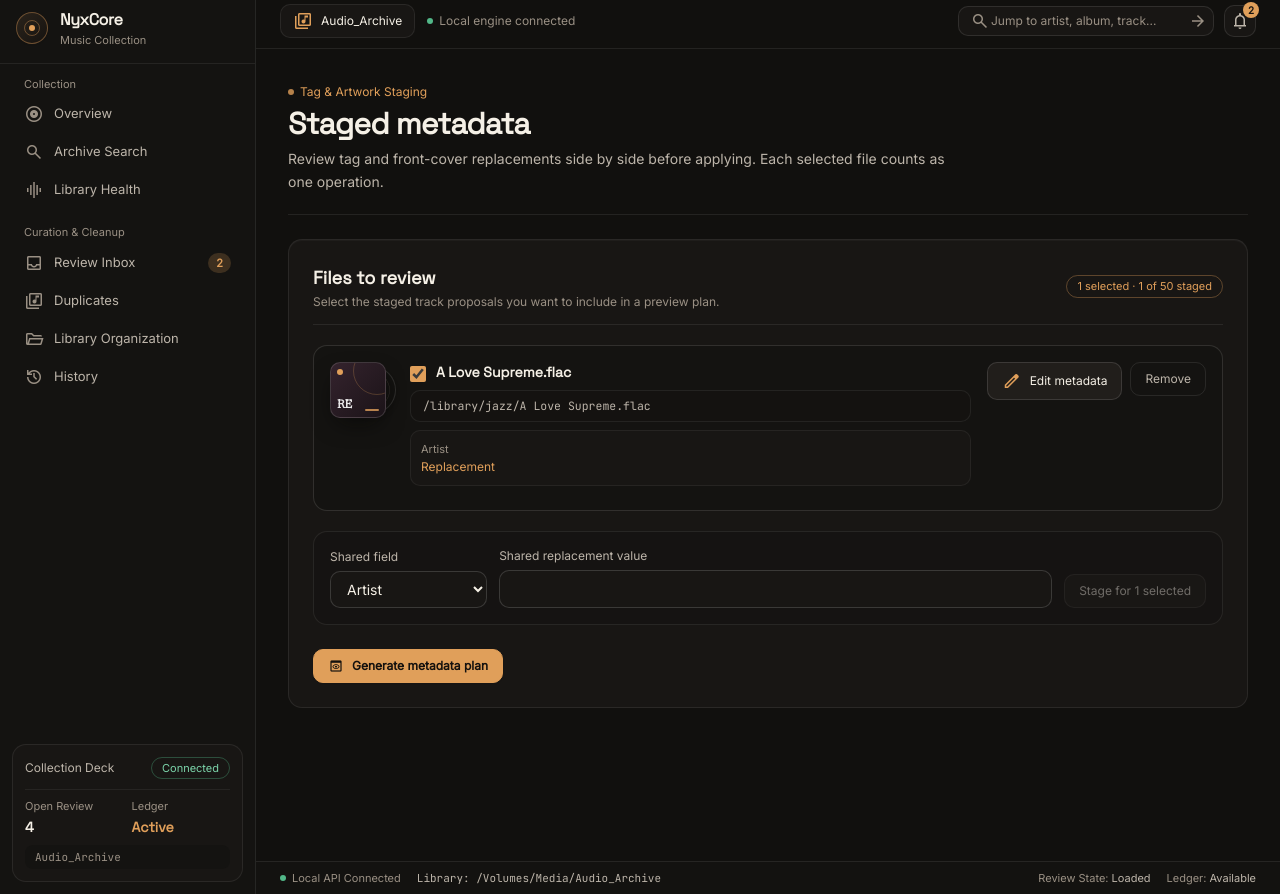
it: metadata repair › reports a file failure and keeps its draft
Click the button "Generate metadata plan".
click(408, 666)  # box top-left (313, 649), bottom-right (503, 683)
(page scrolled)
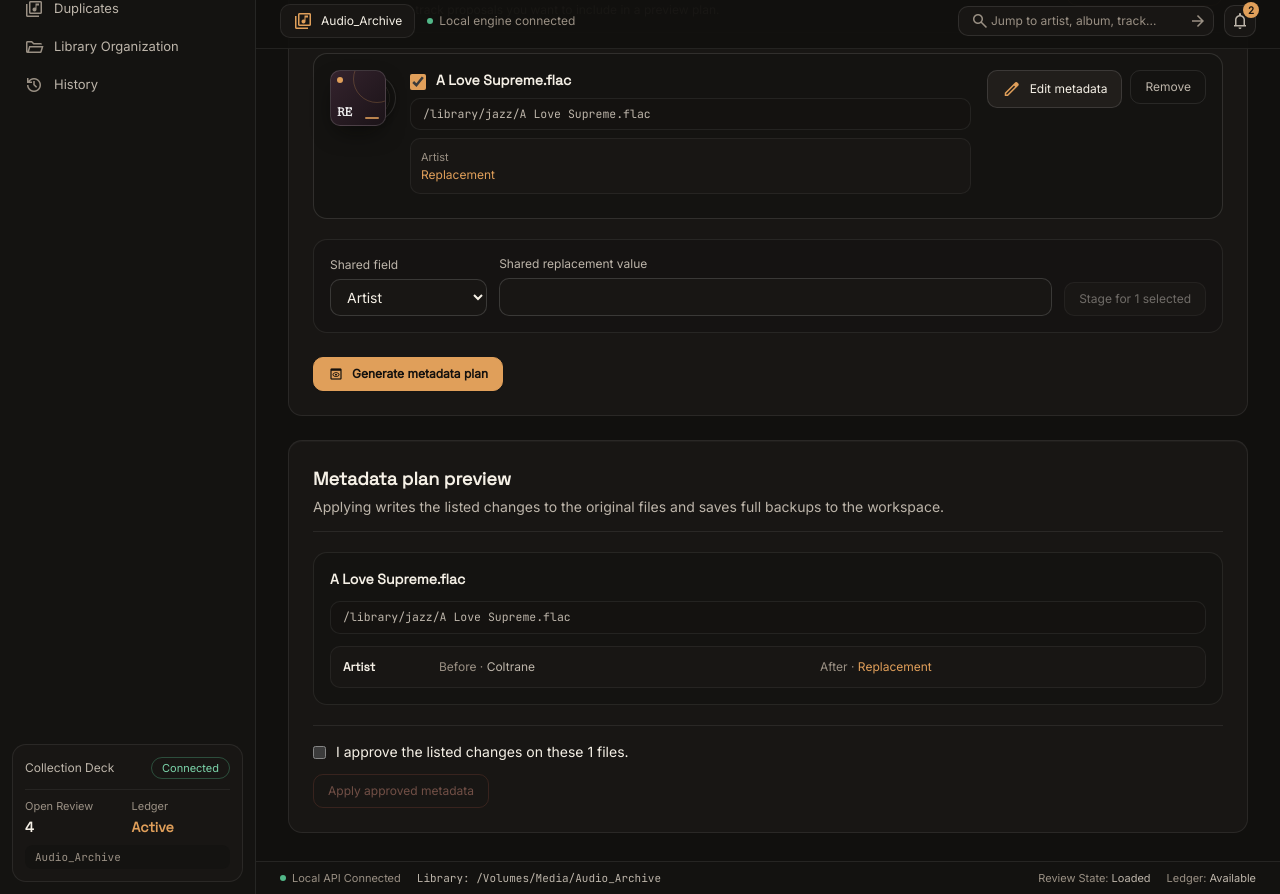
Click the checkbox labelled "I approve the listed changes on these 1 files.".
click(320, 752)  # box top-left (313, 746), bottom-right (326, 759)
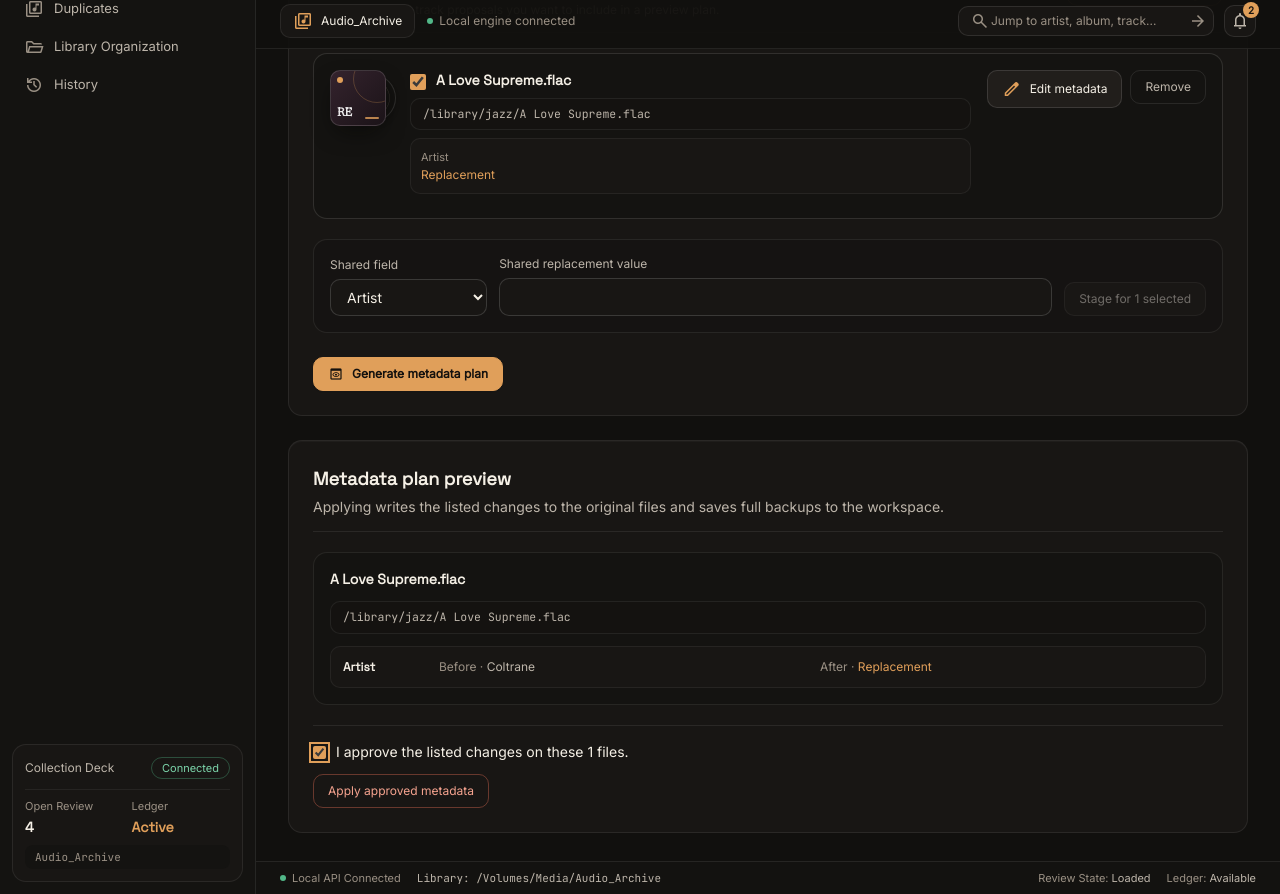
Click the button "Apply approved metadata".
click(401, 791)  # box top-left (313, 774), bottom-right (489, 808)
(page scrolled)
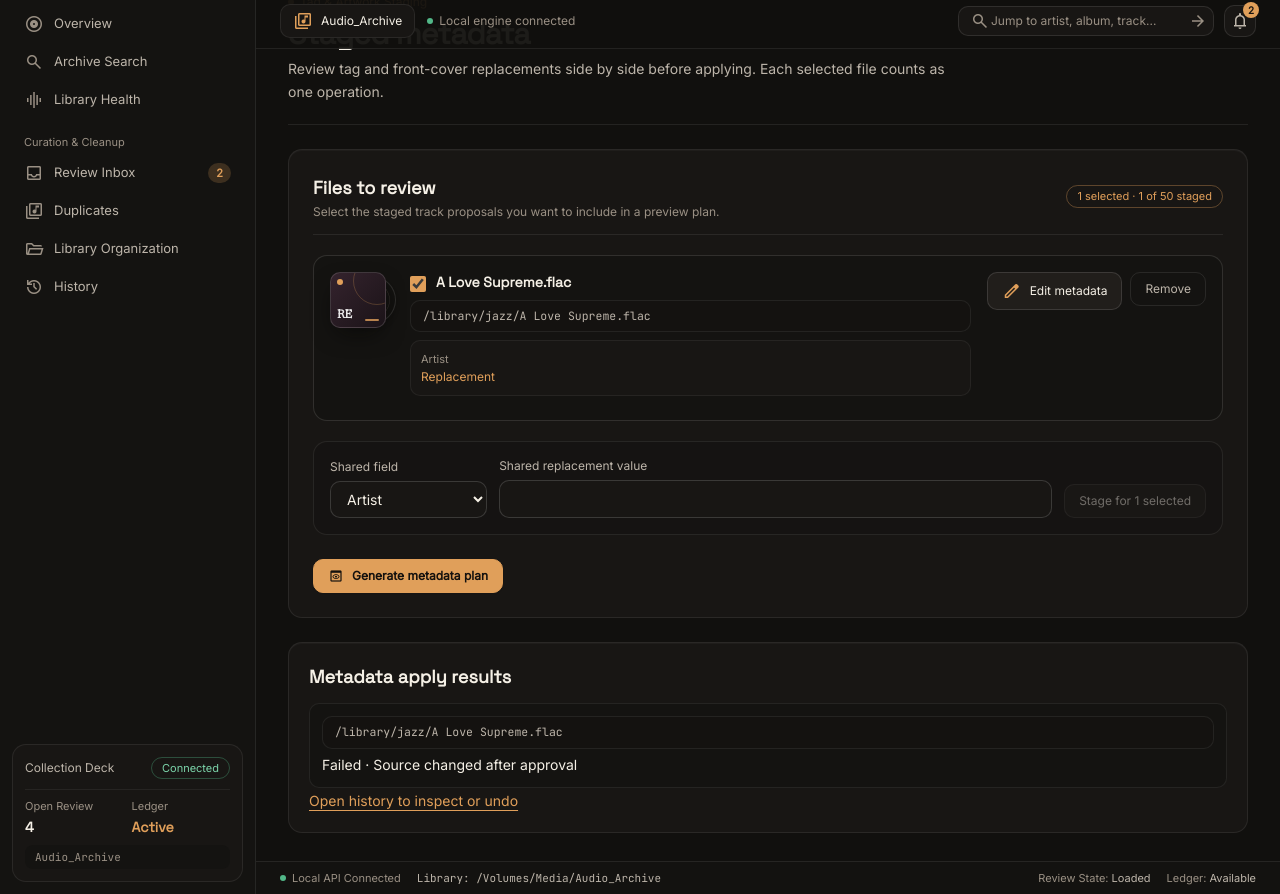
Check: the text "Failed · Source changed after approval" is shown, box top-left (322, 756), bottom-right (577, 773)
